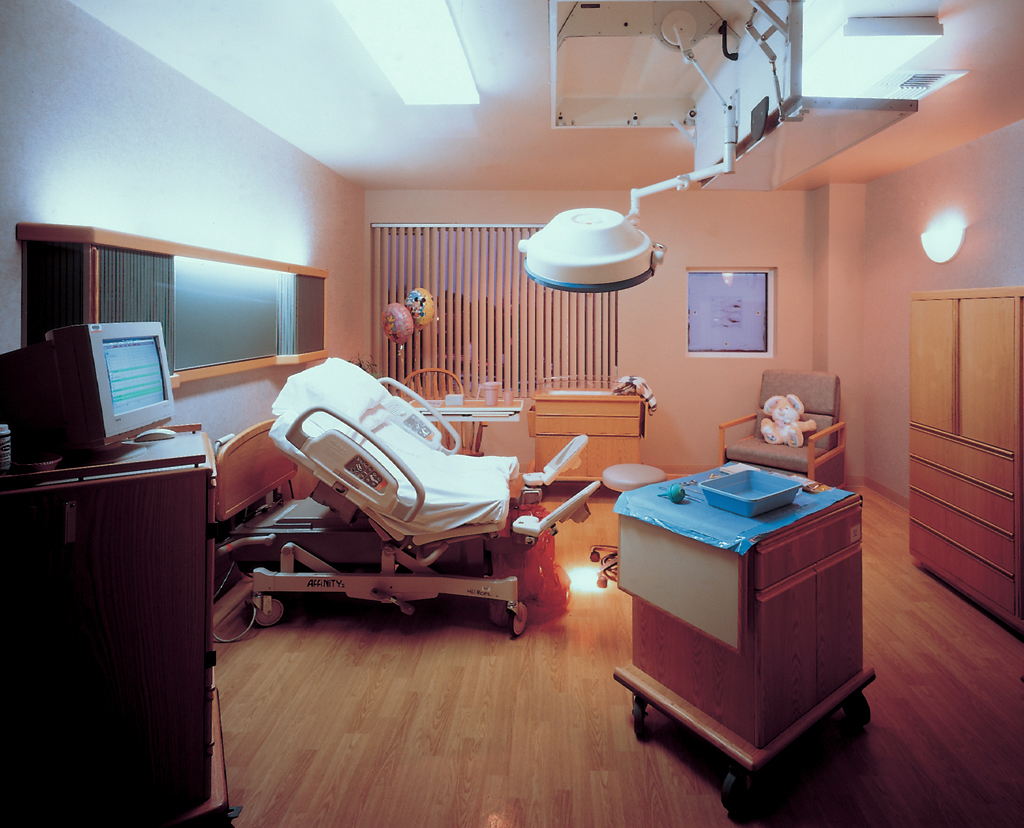hospital bed: (263, 345, 576, 566)
